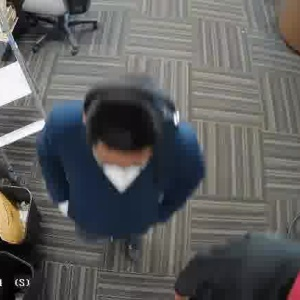person: (41, 71, 190, 239)
